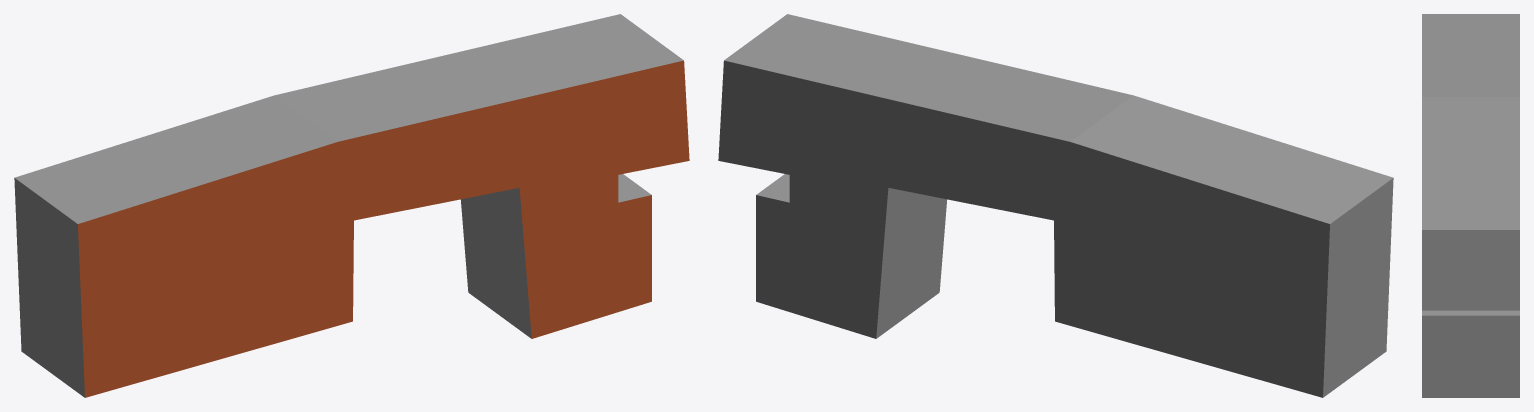
File: construction_1859_assumed_A_Casa_h6m.obj
The picture shows the model from 3 angles, left to right: view 1: azimuth 30°, elevation 25°; view 2: azimuth 150°, elevation 25°; view 3: azimuth 270°, elevation 25°; orthographic projection. The views are drawn at different scales.
Visible parts, largest first — view 1: construction_1859_assumed_A_Casa; view 2: construction_1859_assumed_A_Casa; view 3: construction_1859_assumed_A_Casa.
Part boxes in pixels (x1=…): construction_1859_assumed_A_Casa: x1=14, y1=14, x2=689, y2=397; construction_1859_assumed_A_Casa: x1=718, y1=14, x2=1393, y2=397; construction_1859_assumed_A_Casa: x1=1422, y1=14, x2=1519, y2=397.
Size of the model in its own units: 33.37 by 12.75 by 6.
